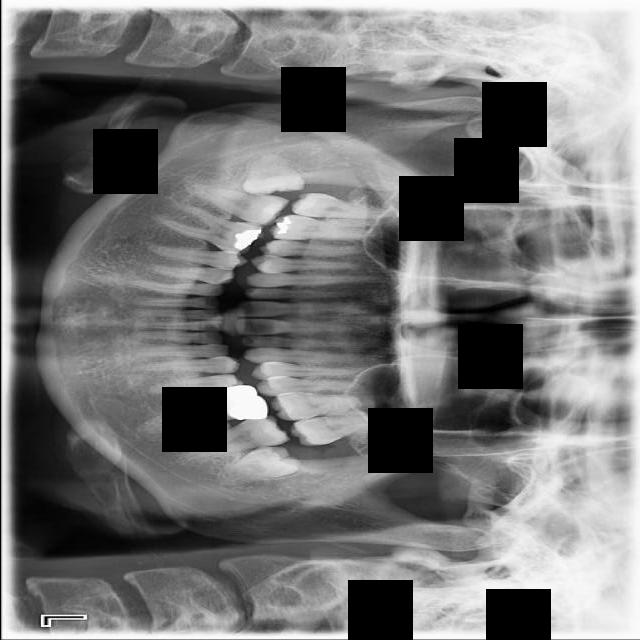52: (206, 208, 270, 268), (236, 180, 291, 237), (216, 384, 268, 421), (268, 211, 315, 244)
73: (27, 613, 37, 622)
BioHorizons Implant: (287, 411, 398, 448)
Biomet 3i Implant: (211, 440, 302, 490)
Blue Sky Bio Implant: (176, 410, 289, 465)
Caries: (290, 191, 397, 223)
Implant: (185, 181, 290, 231)
Keystone Dental Implant: (237, 150, 305, 197)
